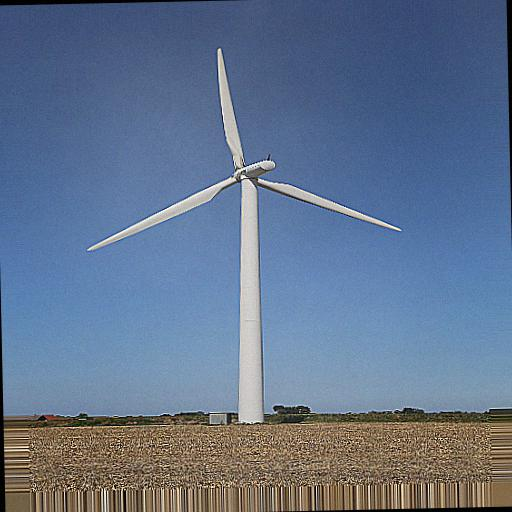wind turbine: (90, 47, 402, 417)
